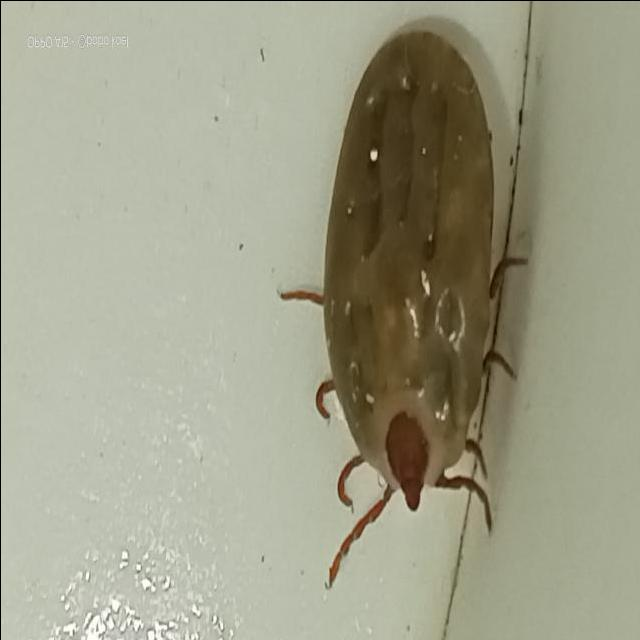Rhipicephalus Sanguineus-F-Fed: (276, 12, 514, 584)
